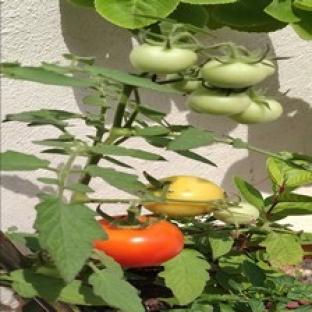Tomato: (94, 216, 183, 267), (144, 176, 225, 218), (201, 59, 275, 89), (130, 44, 197, 73), (187, 87, 250, 115), (230, 99, 282, 123), (214, 202, 259, 224), (166, 74, 201, 93)
